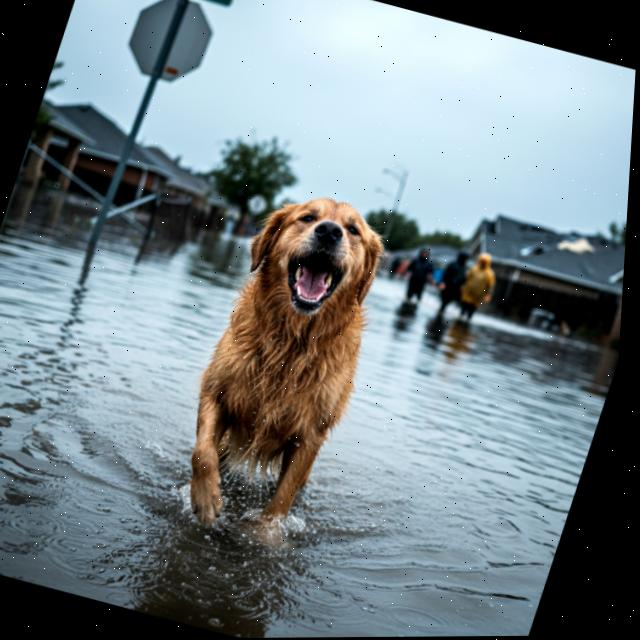civilian: (446, 245, 509, 326), (389, 240, 446, 310), (426, 244, 478, 320)
dog: (141, 168, 427, 561)
